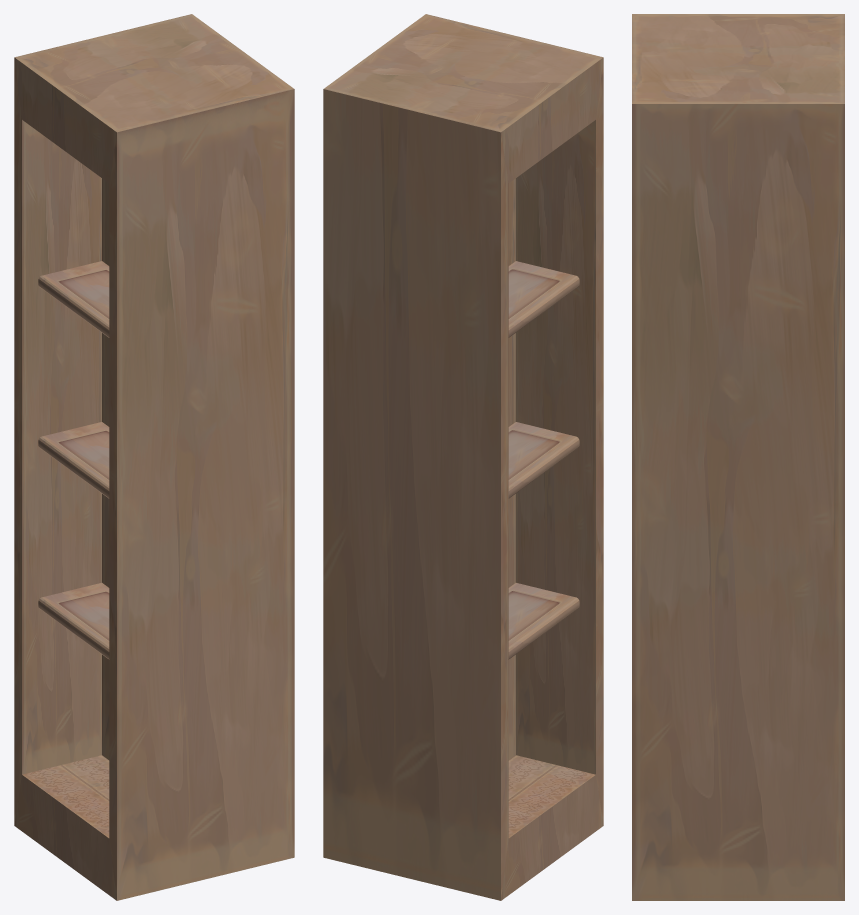
Rendered from Shelf.fbx.
3 views of the same model, side by side, from view 1: azimuth 30°, elevation 25°; view 2: azimuth 150°, elevation 25°; view 3: azimuth 270°, elevation 25° (orthographic). The views are drawn at different scales.
Visible parts, largest first — view 1: Closet_mesh; view 2: Closet_mesh; view 3: Closet_mesh.
Part boxes in pixels (x1,y1,x2,y2): Closet_mesh: (14, 14, 294, 900); Closet_mesh: (323, 14, 603, 900); Closet_mesh: (632, 14, 844, 900).
Size of the model in its own units: 47.72 by 197 by 47.72.
